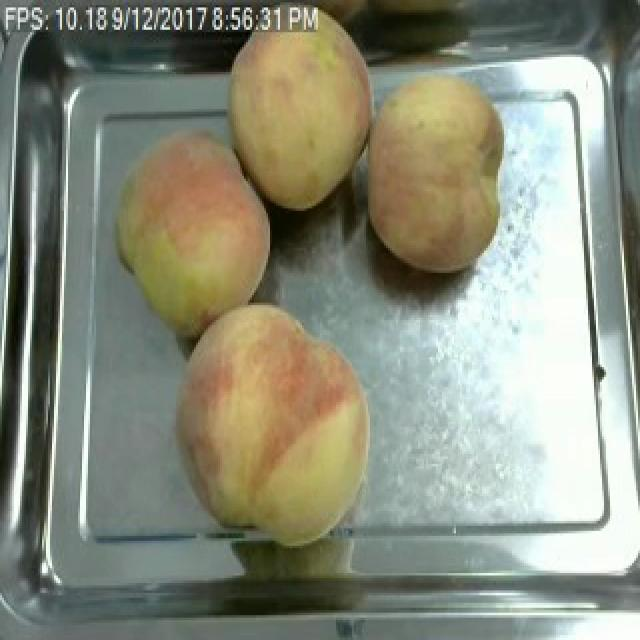Fruit: (168, 295, 380, 553), (108, 119, 280, 347), (214, 0, 388, 218), (350, 55, 514, 282)
